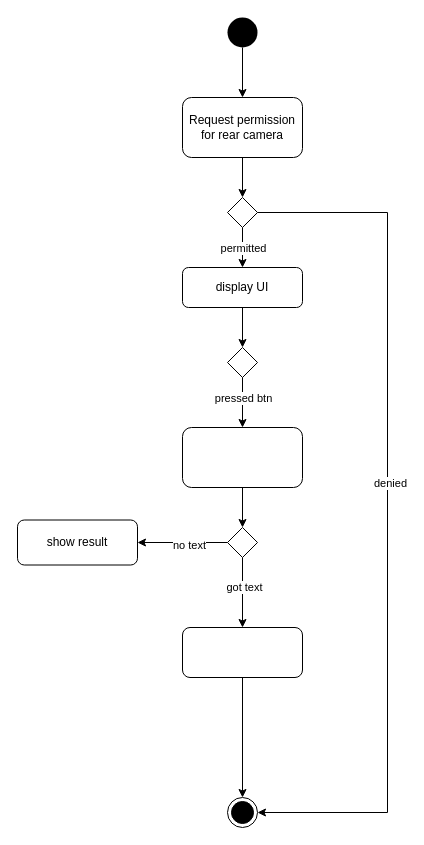
This 424x845 diagram has some shape labels left out. The shapes that lost their labels are listed below. From the top down, each one's centre as x and y in pixels, then its label:
point (242, 457): delegate ocr task to tesseract.js
point (242, 652): display text
